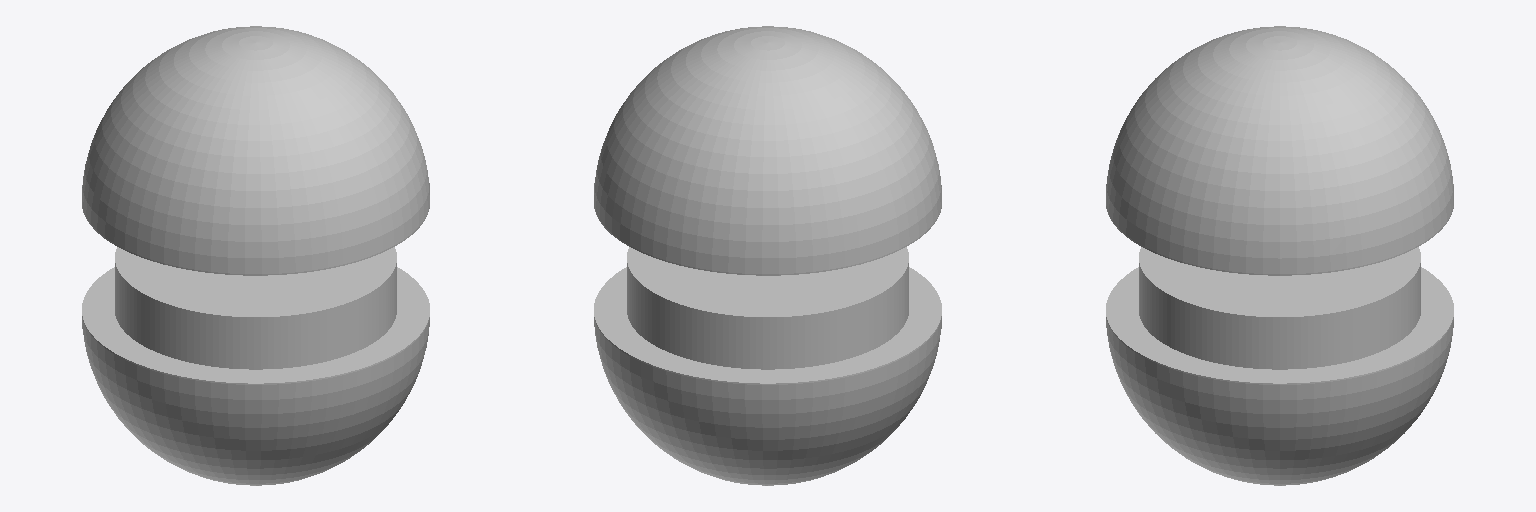
The model's file is droid_anim_000028.obj.
3 renders of one model, left to right at view 1: azimuth 30°, elevation 25°; view 2: azimuth 150°, elevation 25°; view 3: azimuth 270°, elevation 25°, orthographic.
Parts seen in each view (by area): view 1: Sphere.004, Sphere.005, Cylinder.002; view 2: Sphere.004, Sphere.005, Cylinder.002; view 3: Sphere.004, Sphere.005, Cylinder.002.
Boxes of the visible parts, x1=… form: Sphere.004: x1=82, y1=26, x2=429, y2=275; Sphere.005: x1=82, y1=267, x2=429, y2=485; Cylinder.002: x1=115, y1=247, x2=396, y2=369; Sphere.004: x1=594, y1=26, x2=941, y2=275; Sphere.005: x1=594, y1=267, x2=941, y2=485; Cylinder.002: x1=627, y1=247, x2=908, y2=369; Sphere.004: x1=1106, y1=26, x2=1453, y2=275; Sphere.005: x1=1106, y1=267, x2=1453, y2=485; Cylinder.002: x1=1139, y1=247, x2=1420, y2=369.
Size of the model in its own units: 2 by 2.7 by 2.